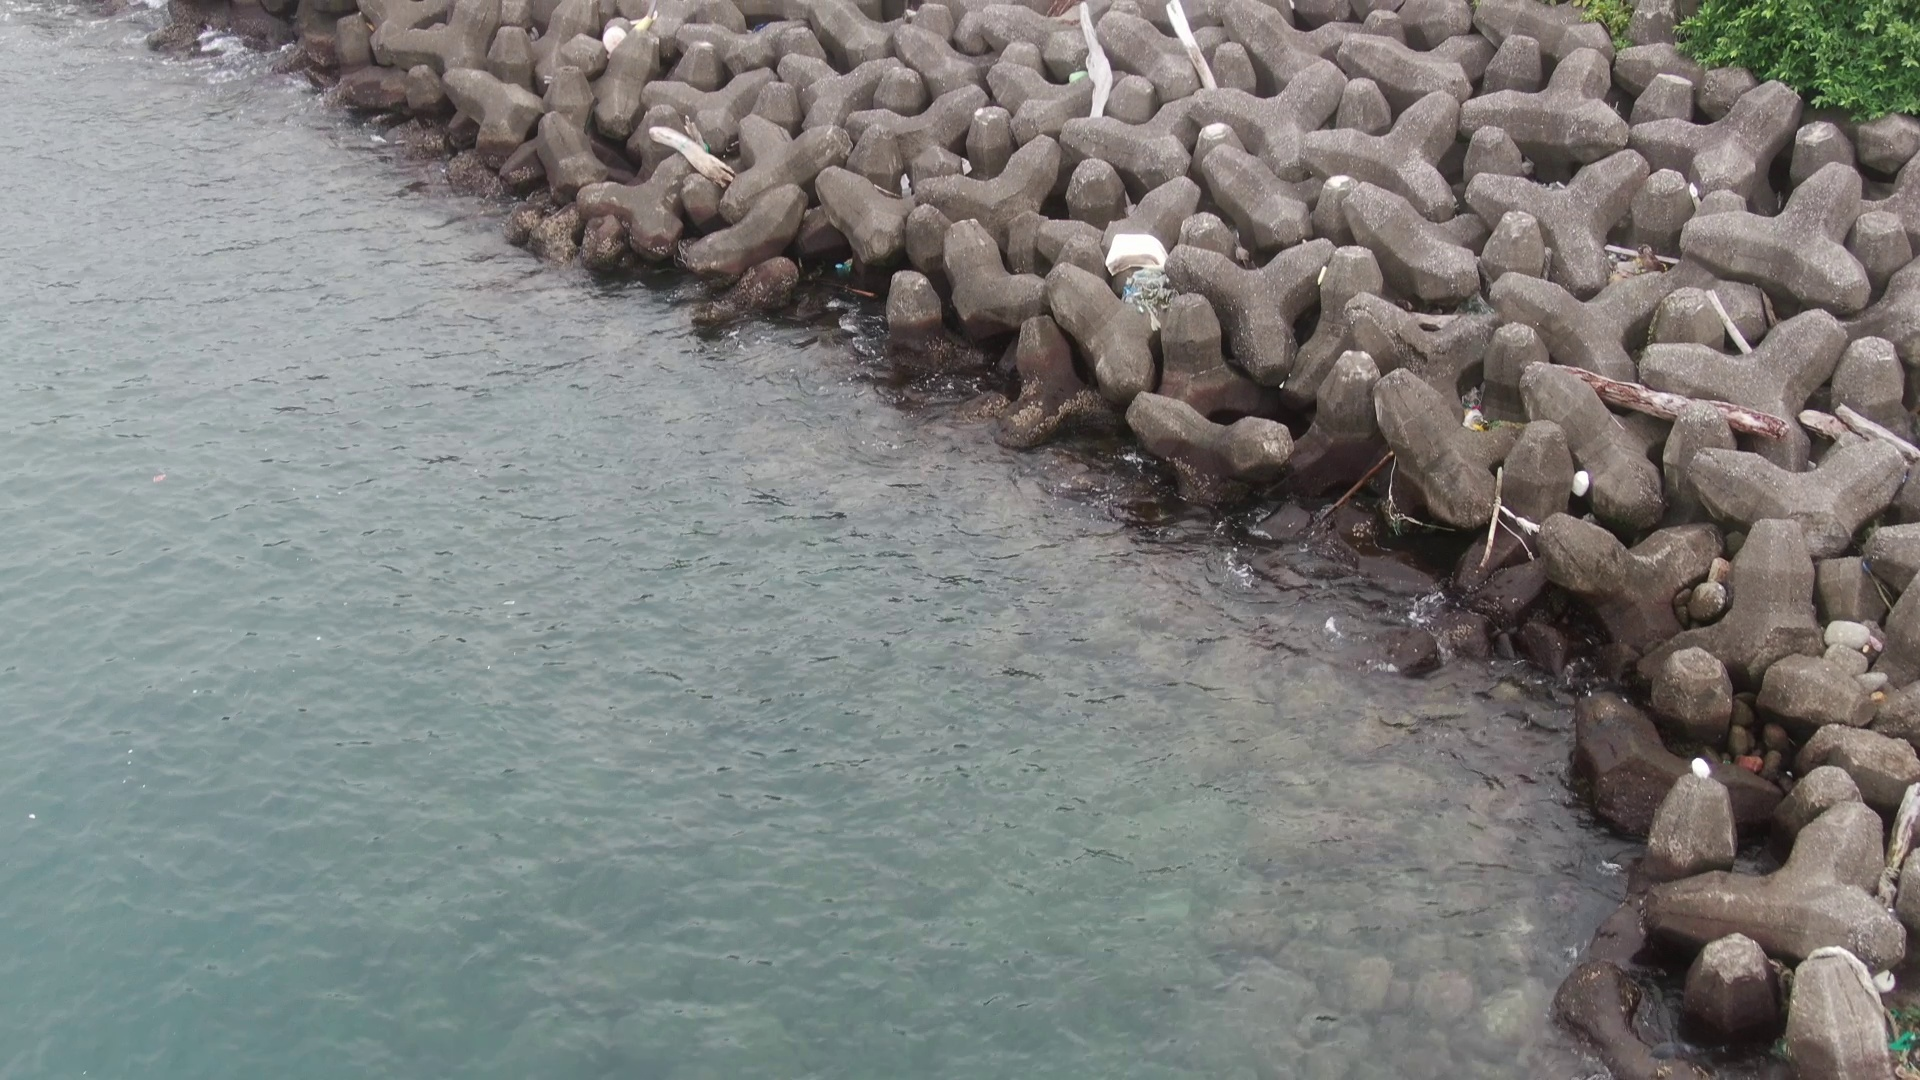garbage: (1105, 220, 1175, 331), (1866, 965, 1920, 1068), (597, 4, 661, 58), (1457, 386, 1491, 442), (1687, 752, 1721, 795), (1563, 463, 1596, 497), (832, 251, 861, 281)
